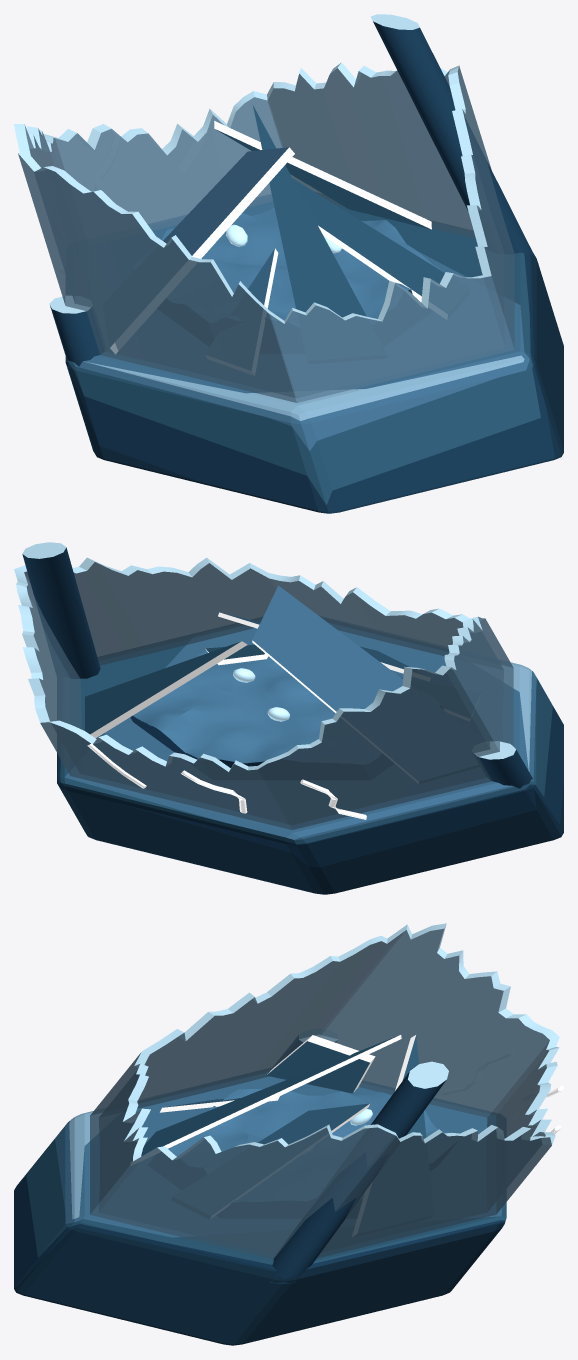
Rendered from fruit_capsule_b_wreck.glb.
The picture shows the model from 3 angles, top to bottom: view 1: azimuth 30°, elevation 25°; view 2: azimuth 150°, elevation 25°; view 3: azimuth 270°, elevation 25°; orthographic projection. The views are drawn at different scales.
Parts seen in each view (by area): view 1: fruit_capsule_b_wreck; view 2: fruit_capsule_b_wreck; view 3: fruit_capsule_b_wreck.
Part boxes in pixels (bbox=[...]): fruit_capsule_b_wreck: bbox=[14, 14, 563, 513]; fruit_capsule_b_wreck: bbox=[14, 542, 563, 894]; fruit_capsule_b_wreck: bbox=[14, 923, 563, 1345].
Size of the model in its own units: 15.83 by 8.59 by 17.35.
